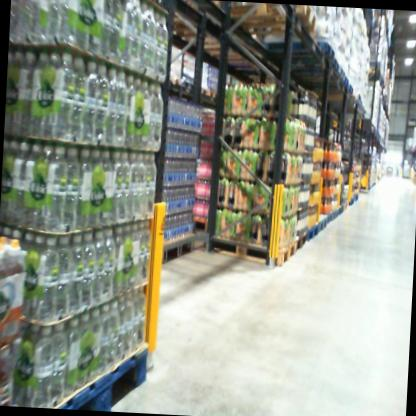pallet: (50, 338, 157, 412), (204, 227, 298, 271), (213, 0, 318, 36), (255, 35, 338, 65), (144, 228, 198, 263), (278, 53, 341, 74), (280, 64, 347, 80), (190, 209, 212, 234), (297, 222, 319, 244), (292, 227, 307, 253), (309, 213, 327, 232), (319, 209, 334, 224)
